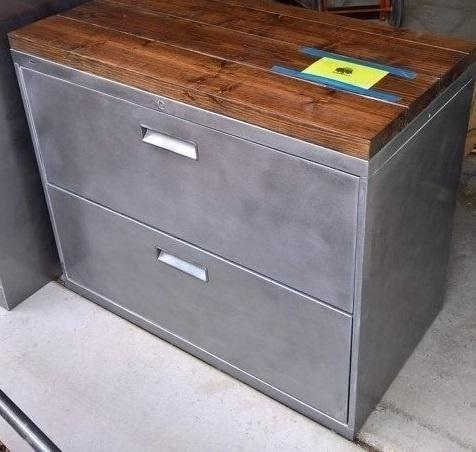cabinet_door: (51, 112, 357, 239), (64, 248, 350, 359)
handle: (154, 246, 211, 282), (141, 130, 202, 160)
